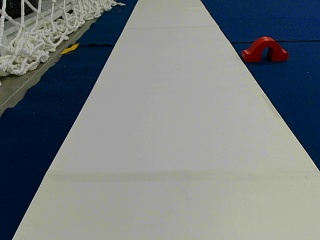bridge: (243, 36, 287, 60)
